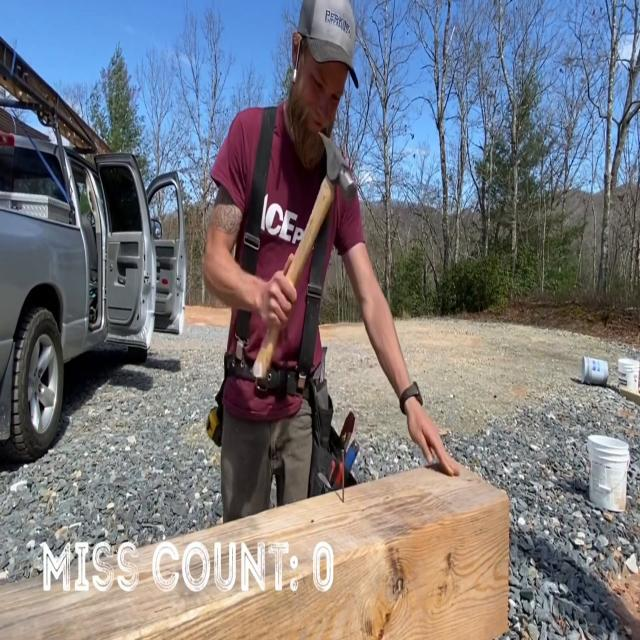hammer: (251, 127, 357, 381)
